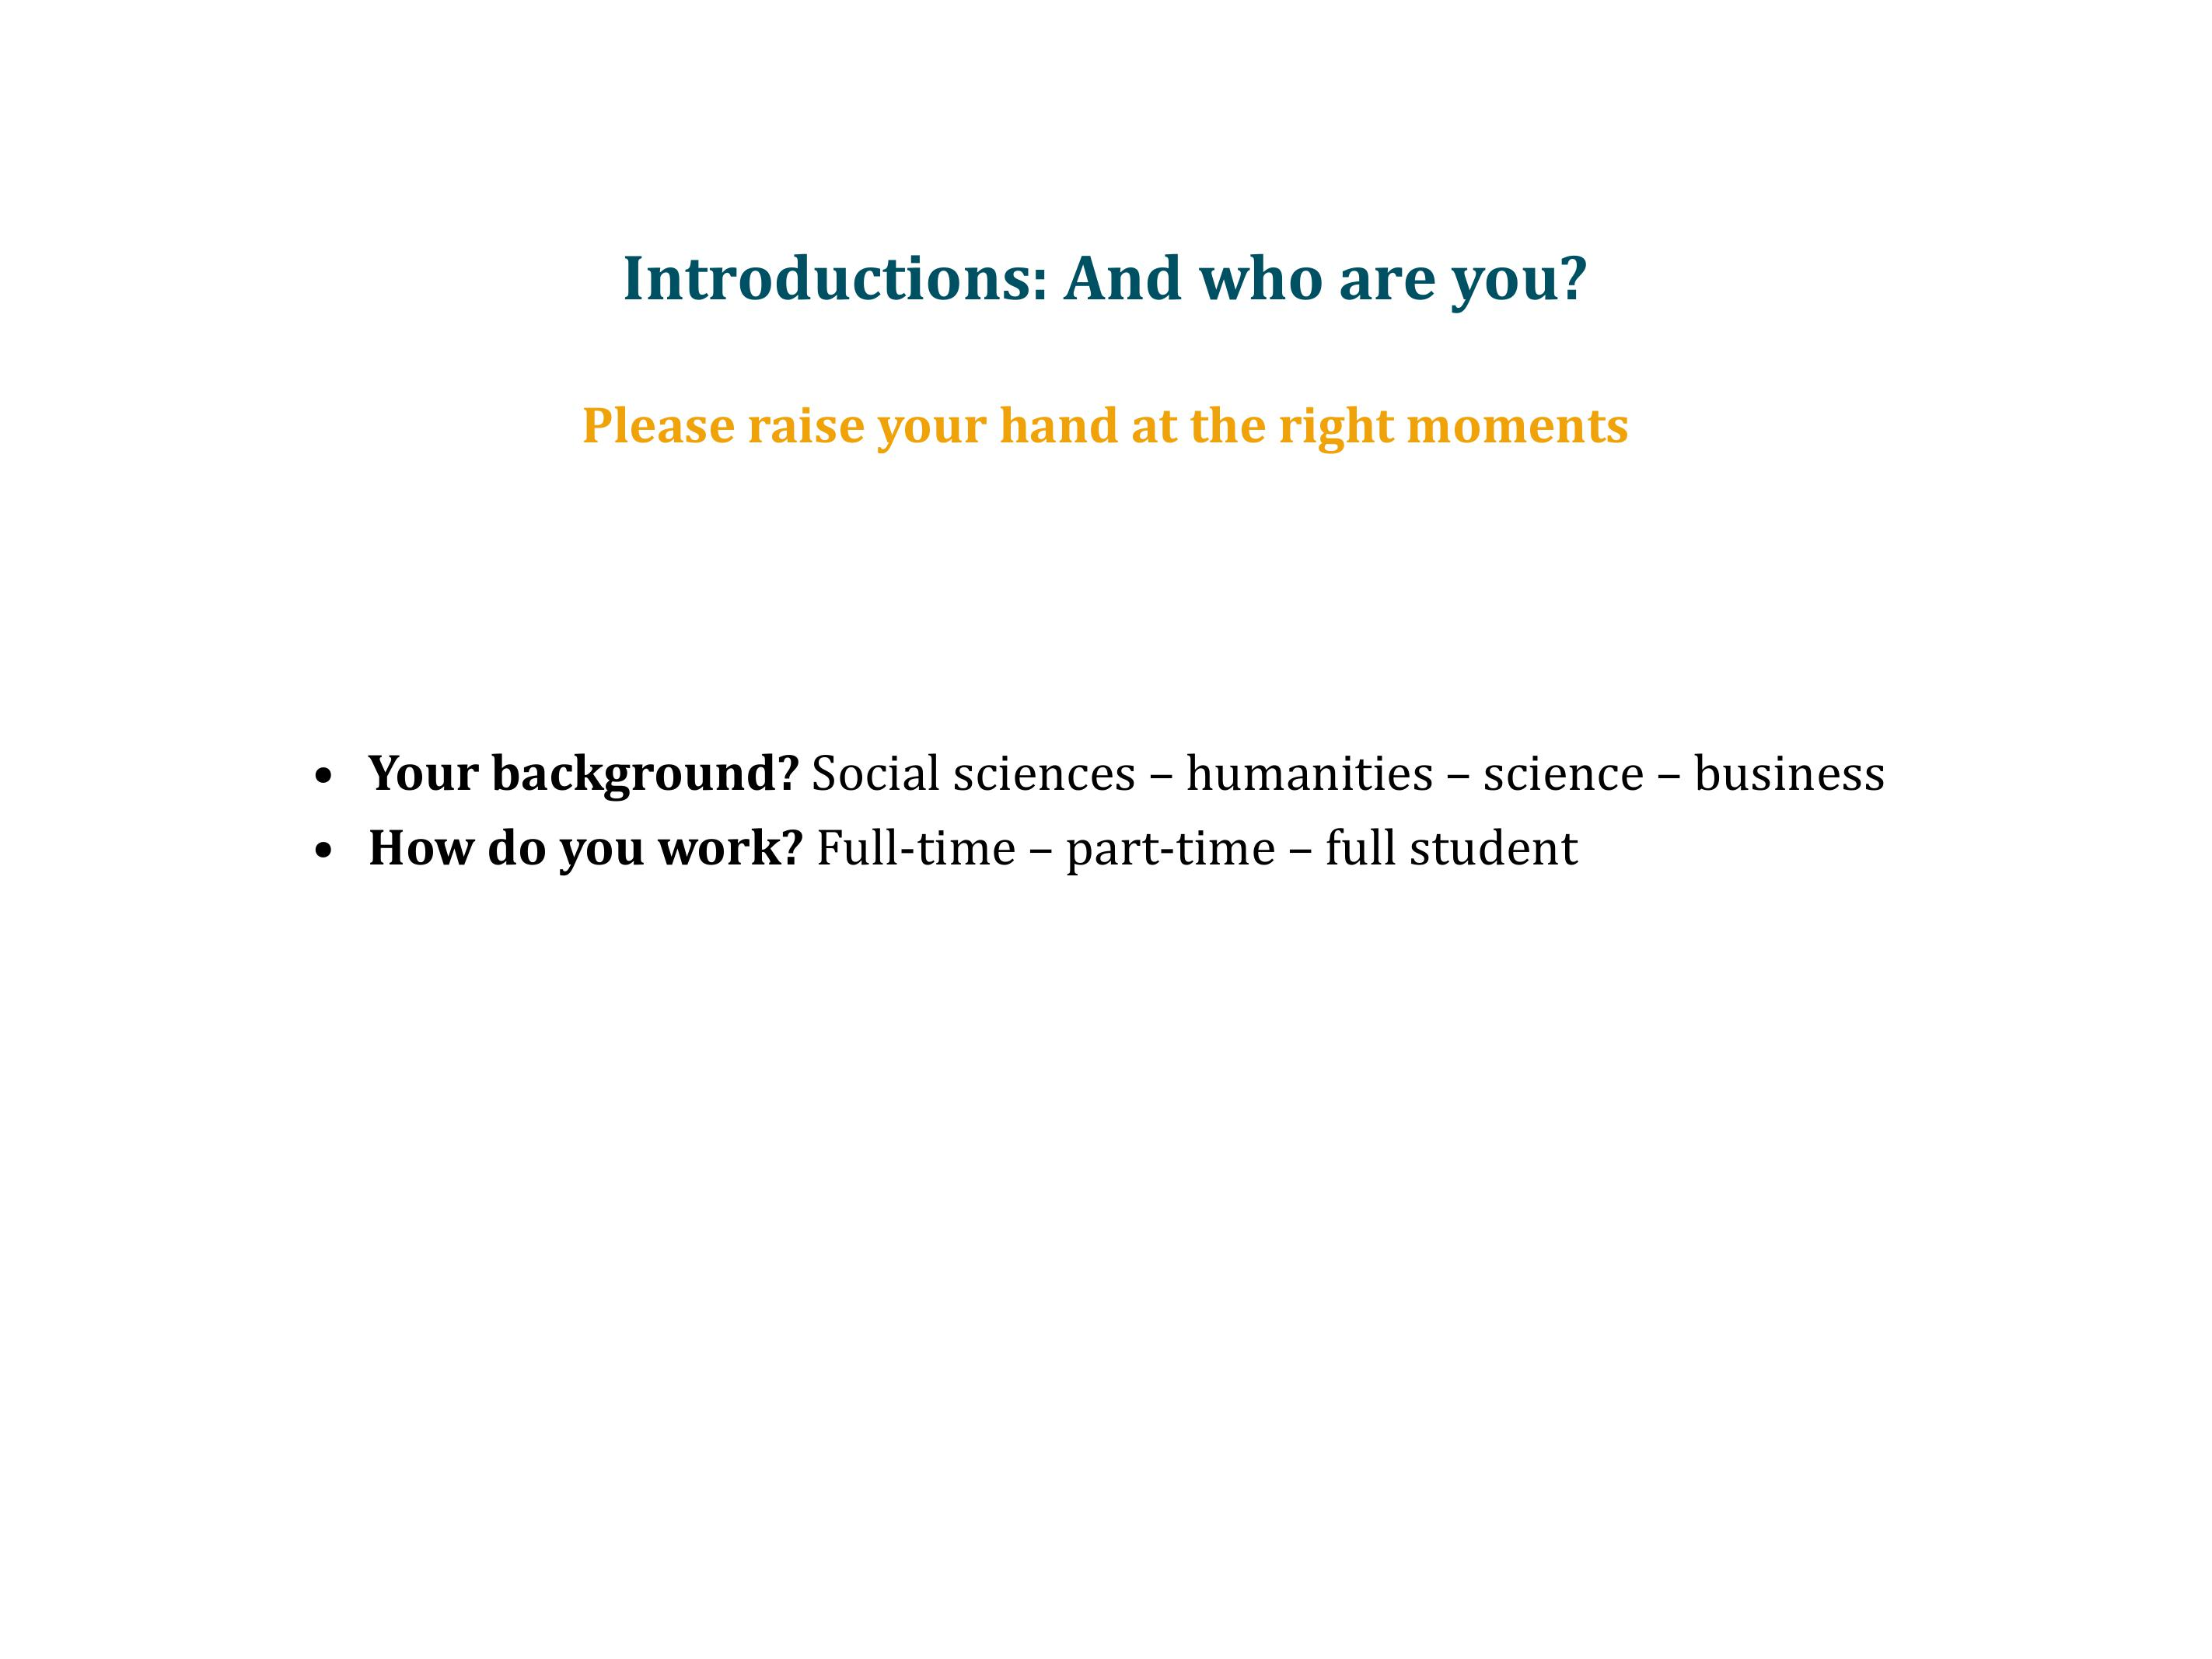Title: (598, 242, 1607, 317)
